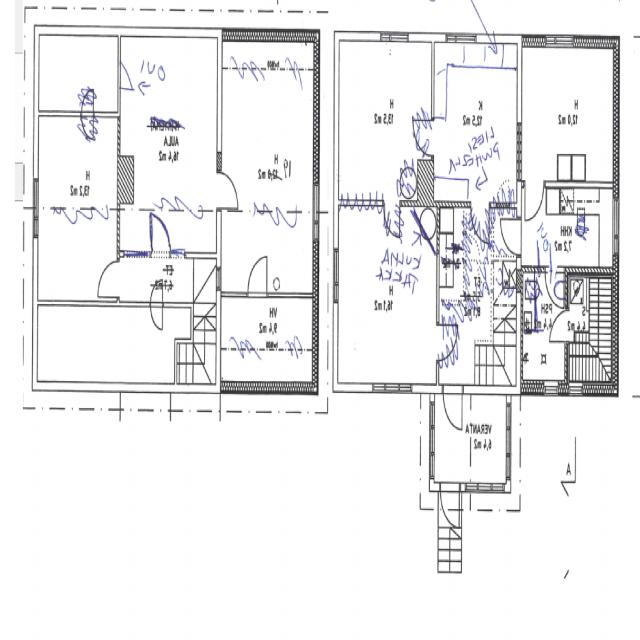door: (440, 484, 460, 530), (443, 385, 462, 430), (248, 256, 267, 298), (99, 260, 120, 297), (216, 173, 238, 208), (526, 181, 544, 223), (499, 220, 521, 254), (151, 217, 169, 257), (548, 311, 570, 342), (536, 267, 550, 299), (118, 61, 134, 89), (150, 302, 162, 331), (150, 278, 162, 307)
